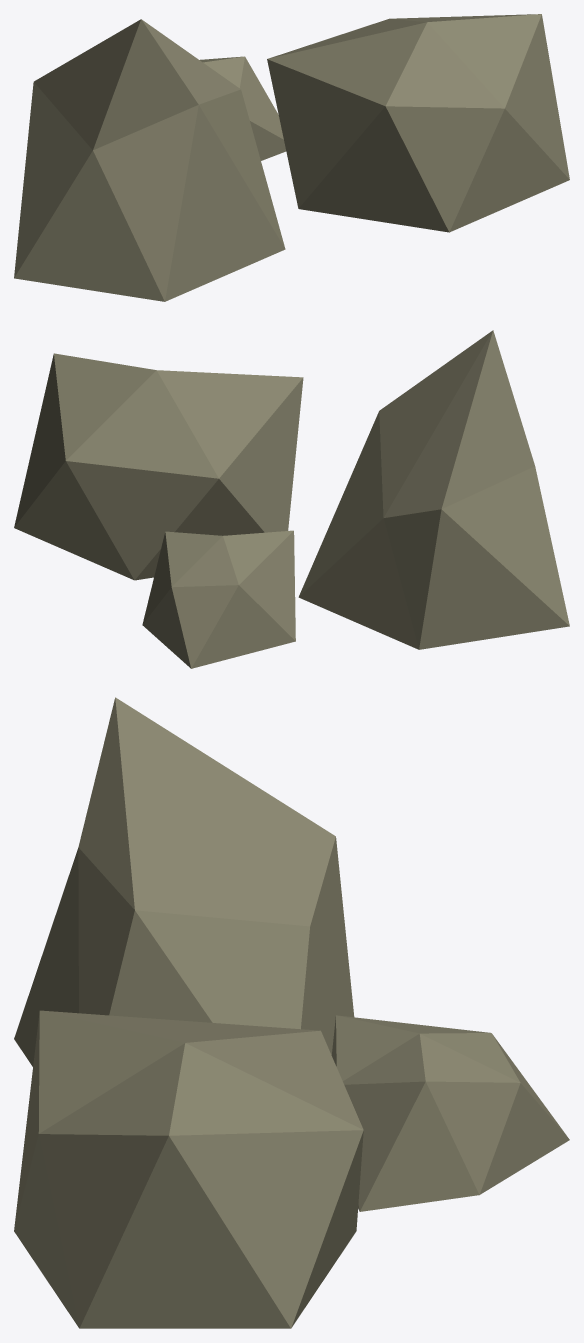
File: Stone.fbx
3 renders of one model, top to bottom at view 1: azimuth 30°, elevation 25°; view 2: azimuth 150°, elevation 25°; view 3: azimuth 270°, elevation 25°, orthographic. The views are drawn at different scales.
Parts seen in each view (by area): view 1: Icosphere.002; view 2: Icosphere.002; view 3: Icosphere.002.
Part boxes in pixels (x1,y1,x2,y2): Icosphere.002: [14, 14, 569, 301]; Icosphere.002: [14, 330, 569, 668]; Icosphere.002: [14, 697, 569, 1328].
Size of the model in its own units: 509 by 236 by 339.
